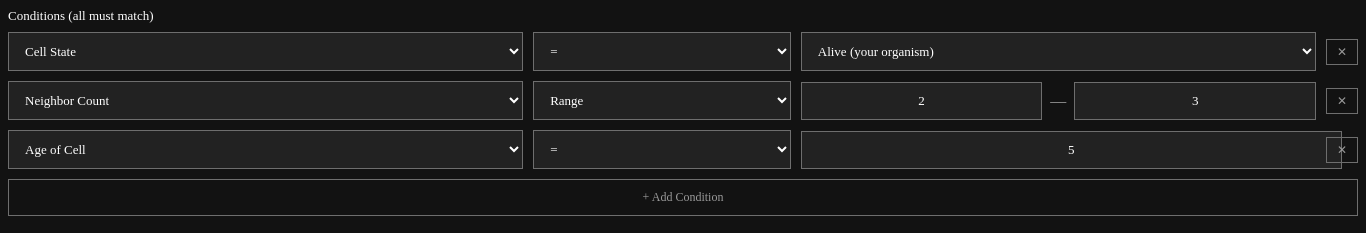
it: ConditionsEditor › deleting the last focuses the new last row
The image size is (1366, 233).
Click the button named "Delete condition 3" at (1342, 150), box top-left (1326, 136), bottom-right (1358, 162)
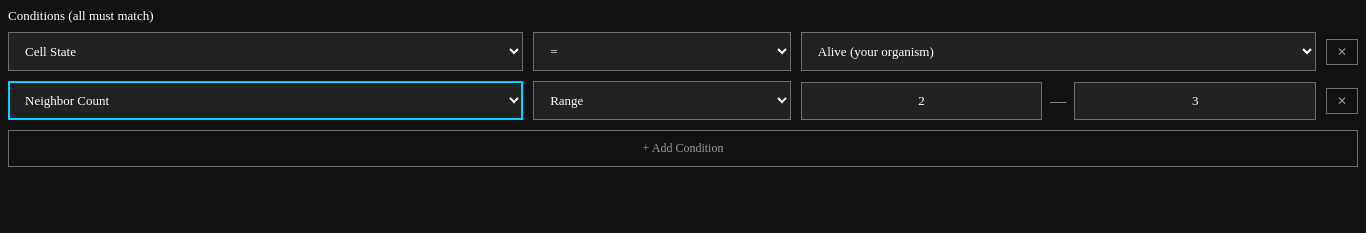
expect the number of dropdowns named "Condition 1 property" is 2: met, box top-left (8, 32), bottom-right (523, 71); top-left (8, 81), bottom-right (523, 120)
